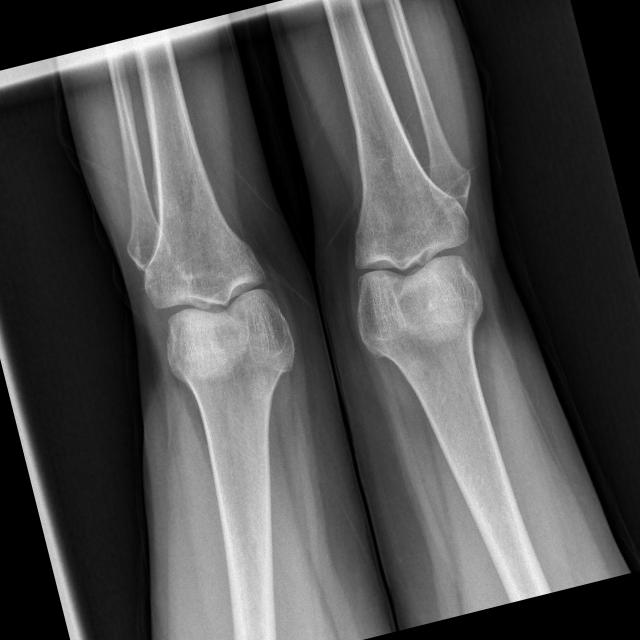Knee: (139, 231, 302, 385), (336, 200, 494, 346)
